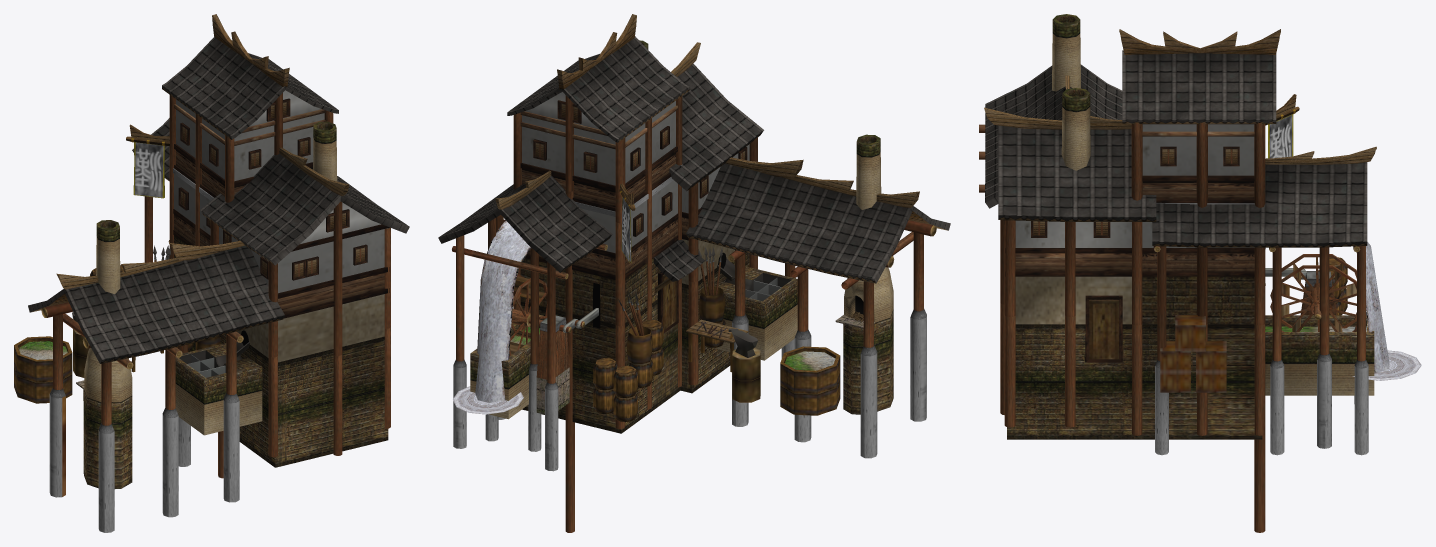
The model's file is s_han_forge.glb.
The picture shows the model from 3 angles, left to right: view 1: azimuth 30°, elevation 25°; view 2: azimuth 150°, elevation 25°; view 3: azimuth 270°, elevation 25°; orthographic projection. The views are drawn at different scales.
Parts seen in each view (by area): view 1: s_han_forge_part0, s_han_forge_part2; view 2: s_han_forge_part0, s_han_forge_part1, s_han_forge_part3, s_han_forge_part2; view 3: s_han_forge_part0, s_han_forge_part3, s_han_forge_part1.
Part boxes in pixels (bbox=[...]): s_han_forge_part0: bbox=[14, 14, 409, 532]; s_han_forge_part2: bbox=[18, 341, 67, 359]; s_han_forge_part0: bbox=[438, 14, 950, 532]; s_han_forge_part1: bbox=[453, 220, 530, 414]; s_han_forge_part3: bbox=[509, 274, 598, 356]; s_han_forge_part2: bbox=[510, 327, 835, 370]; s_han_forge_part0: bbox=[979, 14, 1376, 532]; s_han_forge_part3: bbox=[1265, 254, 1356, 331]; s_han_forge_part1: bbox=[1352, 242, 1421, 380].
Bounding box in the file's own units: 4.01 × 5.25 × 4.2.
Materials: 3 (3 with a texture image).
